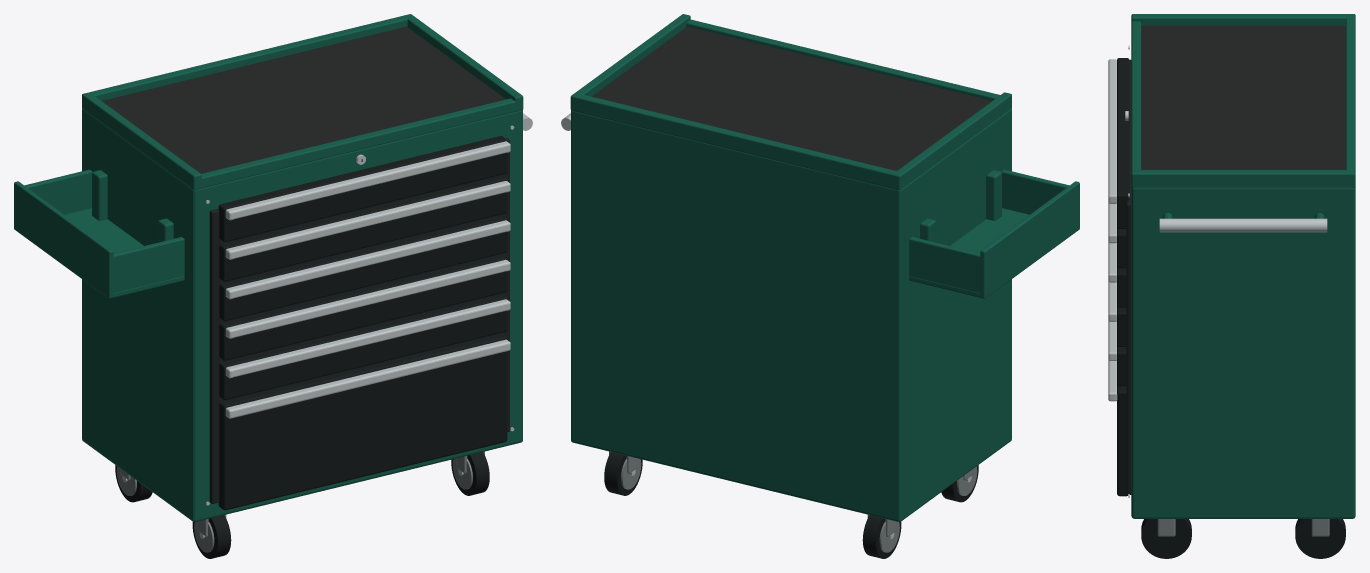
File: lod0_source.glb
3 views of the same model, side by side, from view 1: azimuth 30°, elevation 25°; view 2: azimuth 150°, elevation 25°; view 3: azimuth 270°, elevation 25° (orthographic).
Parts seen in each view (by area): view 1: Green enclosed cabinet body, Rubber top work mat, Deep lower black drawer, Shallow black drawer 01, Shallow black drawer 04, Shallow black drawer 02, Shallow black drawer 03, Shallow black drawer 05, Black recessed drawer surround, Left side tray outer wall, Front top rim, Raised back top rim (+14 smaller); view 2: Green enclosed cabinet body, Rubber top work mat, Raised back top rim, Left side tray outer wall, Left side tray end wall.001, Front top rim, Raised side rim -0.379, Left side tray floor, Left side tray end wall, Raised side rim 0.379, Caster rubber tyre.001, Caster rubber tyre.003 (+1 smaller); view 3: Green enclosed cabinet body, Rubber top work mat, Raised side rim 0.379, Raised side rim -0.379, Silver right push handle, Black recessed drawer surround, Shallow black drawer 01, Front top rim, Raised back top rim, Caster rubber tyre.003, Caster rubber tyre.002, Aluminium full width pull 01 (+12 smaller).
Part boxes in pixels (x1,y1,x2,y2): Green enclosed cabinet body: (82, 108, 522, 521); Rubber top work mat: (102, 26, 505, 173); Deep lower black drawer: (218, 334, 507, 510); Shallow black drawer 01: (218, 136, 507, 242); Shallow black drawer 04: (219, 254, 507, 360); Shallow black drawer 02: (219, 175, 507, 281); Shallow black drawer 03: (219, 215, 507, 321); Shallow black drawer 05: (219, 294, 507, 400); Black recessed drawer surround: (209, 138, 509, 503); Left side tray outer wall: (14, 181, 113, 296); Front top rim: (200, 98, 517, 188); Raised back top rim: (88, 15, 407, 100); Green enclosed cabinet body: (571, 108, 1011, 521); Rubber top work mat: (592, 26, 991, 170); Raised back top rim: (576, 94, 896, 188); Left side tray outer wall: (980, 181, 1079, 296); Left side tray end wall.001: (909, 237, 987, 293); Front top rim: (686, 19, 999, 100); Raised side rim -0.379: (893, 92, 1011, 190); Left side tray floor: (909, 208, 1079, 298); Left side tray end wall: (1001, 169, 1079, 228); Raised side rim 0.379: (570, 14, 690, 111); Caster rubber tyre.001: (862, 515, 901, 558); Caster rubber tyre.003: (604, 452, 642, 495); Green enclosed cabinet body: (1131, 187, 1355, 518); Rubber top work mat: (1141, 25, 1345, 169); Raised side rim 0.379: (1131, 170, 1355, 187); Raised side rim -0.379: (1131, 14, 1355, 25); Silver right push handle: (1159, 218, 1327, 232); Black recessed drawer surround: (1126, 59, 1131, 494); Shallow black drawer 01: (1117, 58, 1129, 228); Front top rim: (1131, 21, 1141, 170); Raised back top rim: (1346, 16, 1355, 170); Caster rubber tyre.003: (1295, 519, 1345, 558); Caster rubber tyre.002: (1141, 519, 1191, 558); Aluminium full width pull 01: (1108, 59, 1116, 203).
Bounding box in the file's own units: 1.01 × 0.904 × 0.5075.
